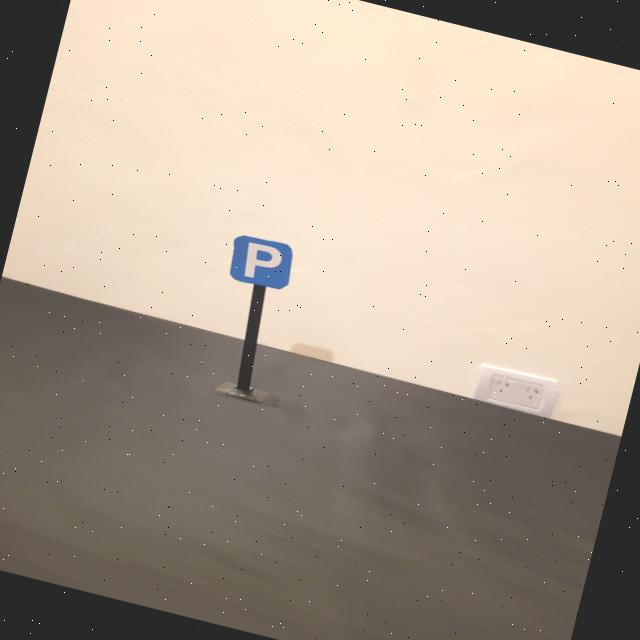parking: (223, 230, 298, 293)
